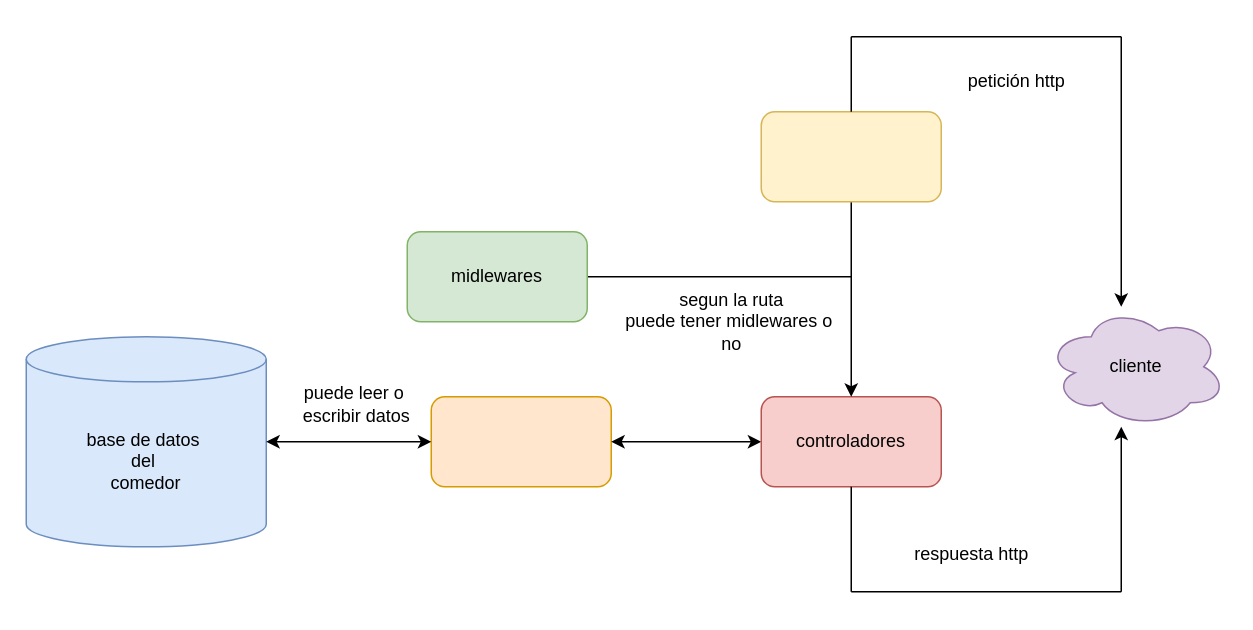
The diagram is 1253 pixels wide and 630 high, and some of its shapes have lost their labels. The box of each missing label's shape, as (x1, y1, x2, y2) in pixels:
rutas: (760, 110, 941, 202)
services: (430, 395, 611, 487)
